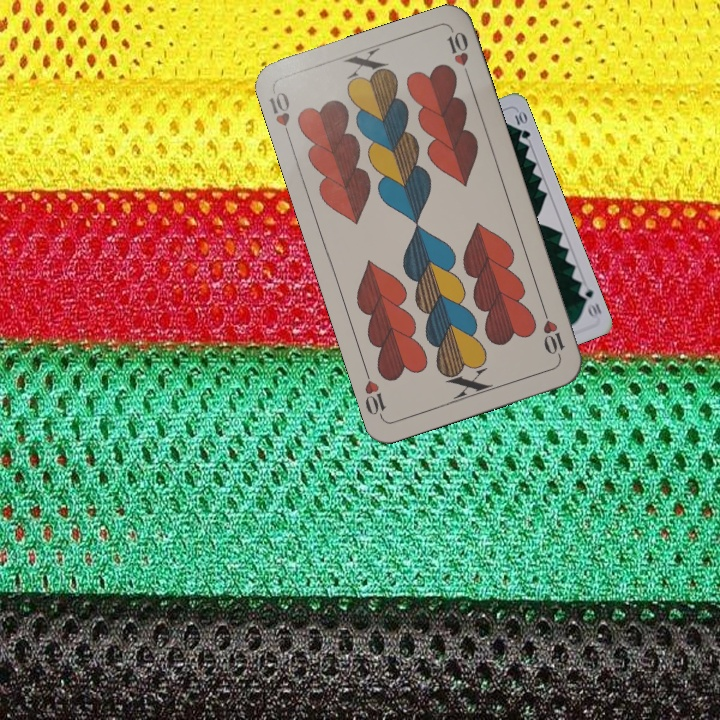G10: (574, 280, 604, 320)
H10: (538, 303, 568, 361), (265, 87, 294, 144)
